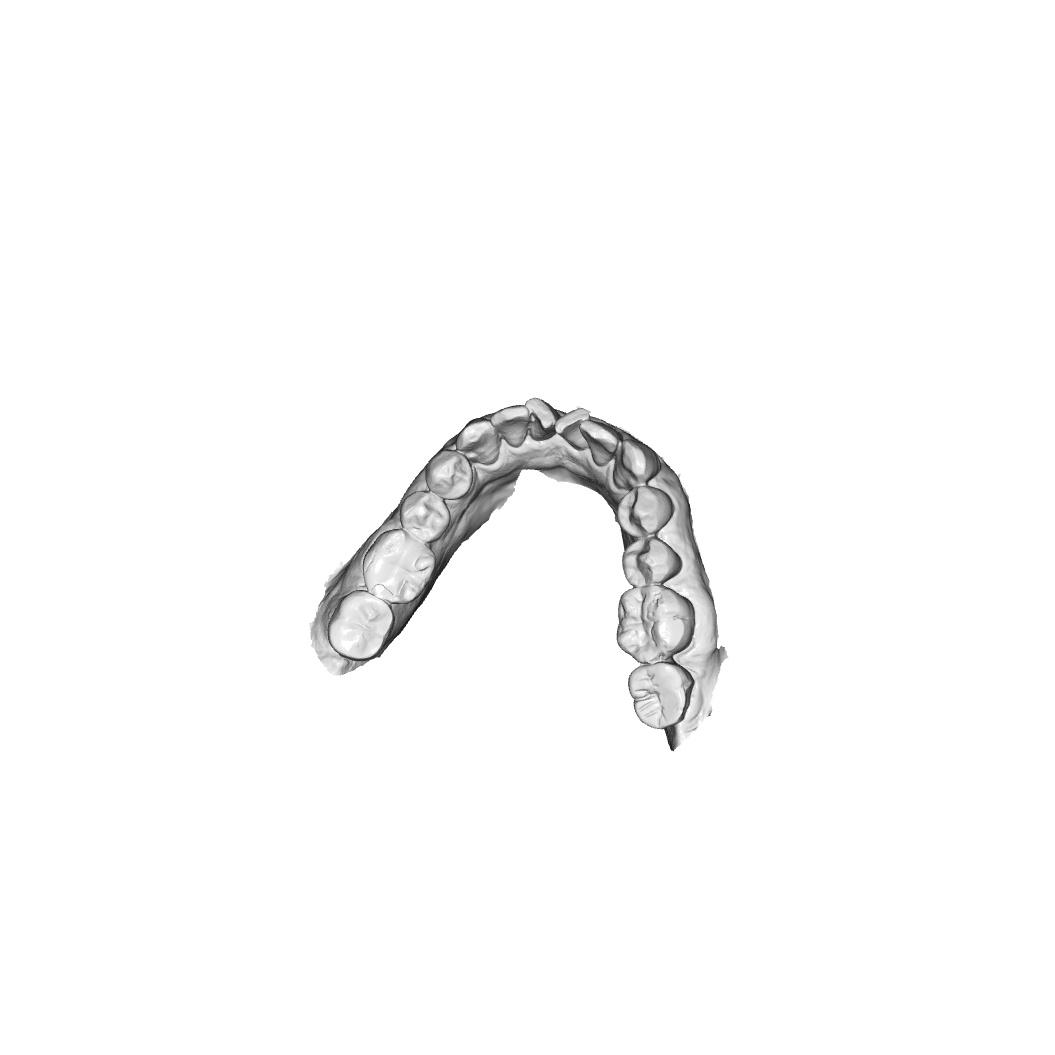canine: (612, 438, 662, 490), (455, 416, 501, 466)
incisor: (578, 419, 624, 467), (490, 404, 530, 448), (524, 396, 562, 442), (553, 407, 591, 452)
molar: (615, 584, 696, 665), (361, 528, 438, 605), (327, 589, 396, 661), (627, 661, 696, 731)
premolar: (621, 535, 682, 588), (616, 485, 674, 538), (399, 491, 451, 544), (425, 449, 474, 501)
